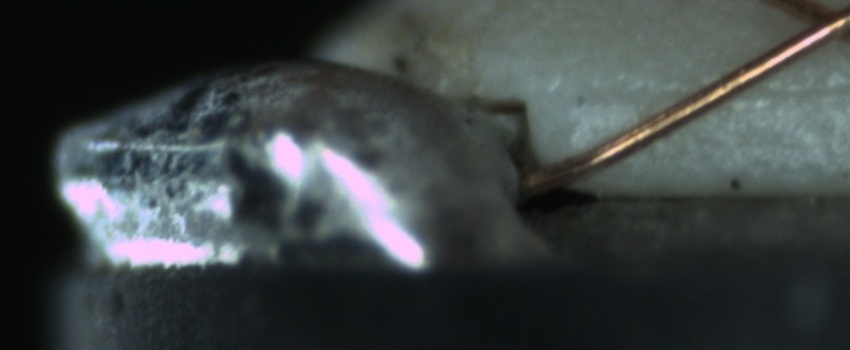CL: (779, 1, 848, 56)
DL: (569, 59, 849, 125)
